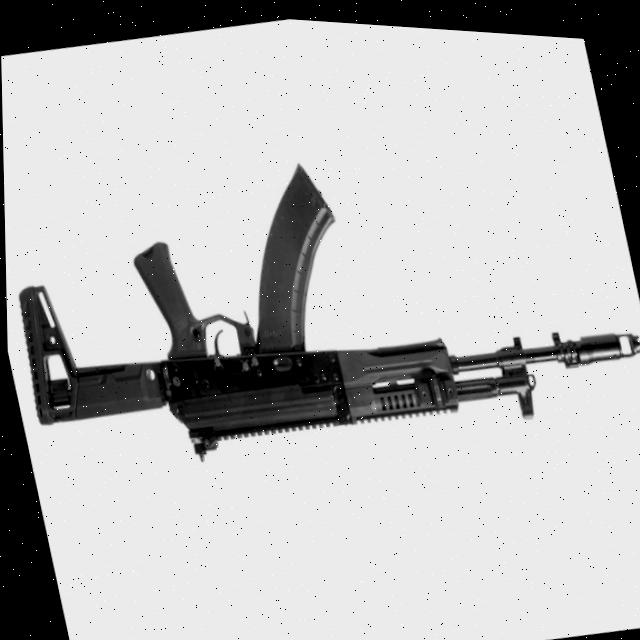firearm: (1, 81, 640, 514)
